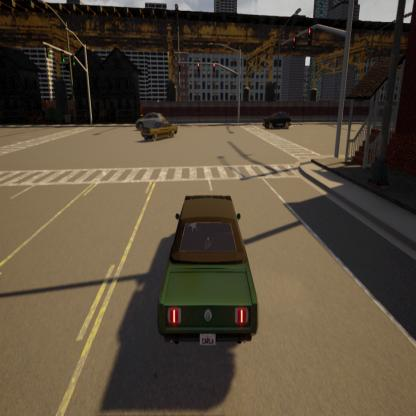Cars: (147, 183, 265, 368), (139, 118, 179, 147), (133, 107, 167, 134), (261, 106, 293, 132)
